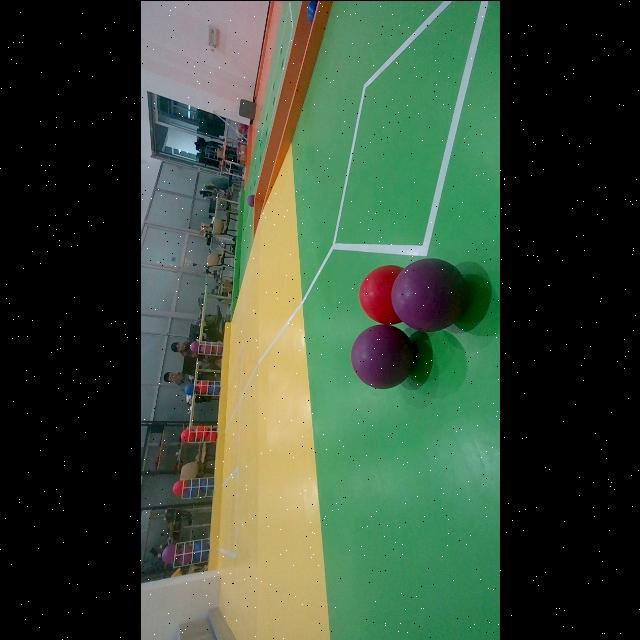P: (390, 257, 468, 331), (351, 323, 414, 389)
R: (358, 264, 404, 324)
S: (180, 473, 218, 501), (170, 538, 212, 562), (189, 376, 221, 398), (184, 423, 216, 442), (195, 340, 222, 354)
